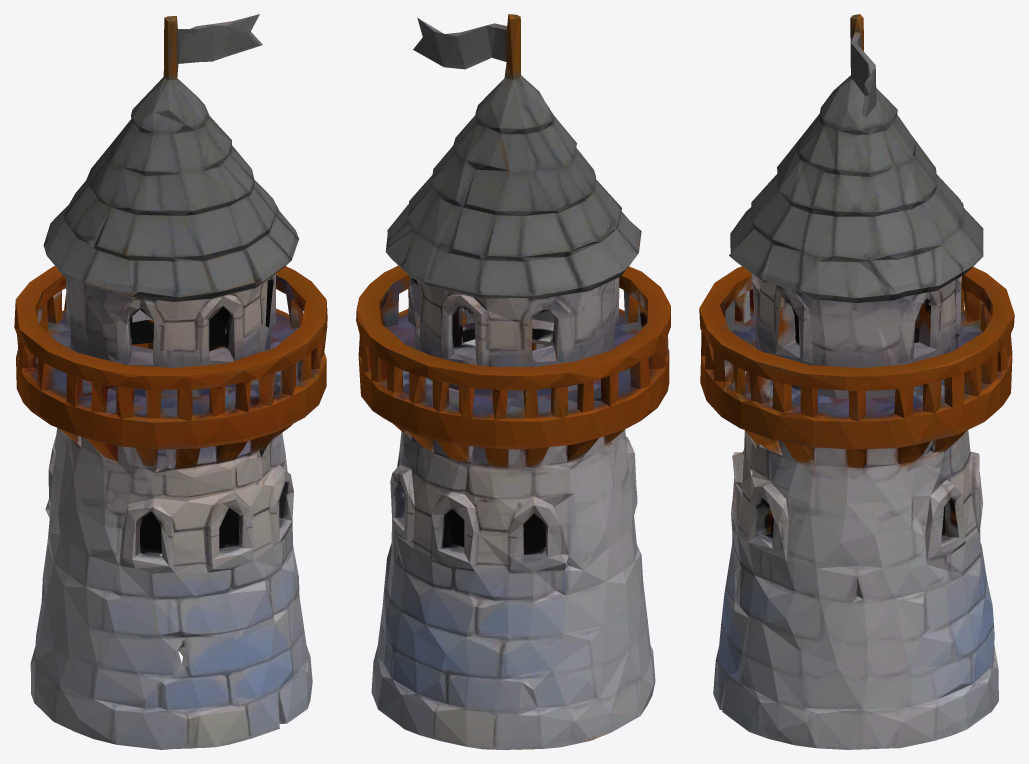
Rendered from fantasy_tower_1.glb.
3 views of the same model, side by side, from view 1: azimuth 30°, elevation 25°; view 2: azimuth 150°, elevation 25°; view 3: azimuth 270°, elevation 25° (orthographic).
Size of the model in its own units: 0.8273 by 1.97 by 0.8337.
Materials: 1 (1 with a texture image).
